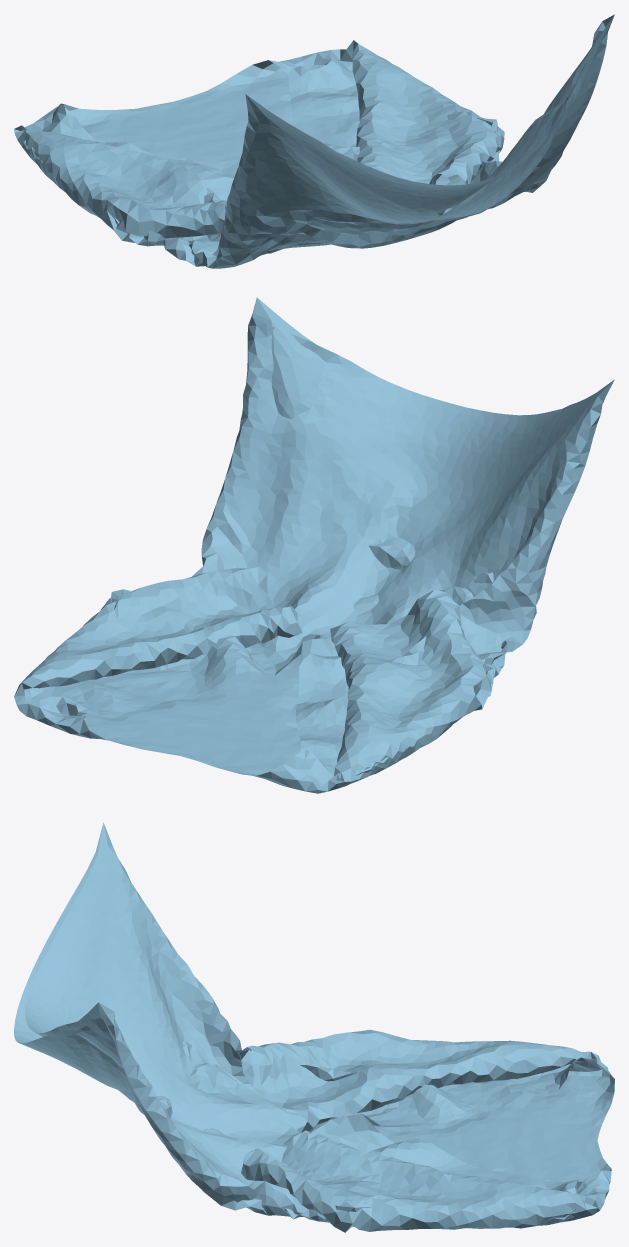
The model's file is frame_05.glb.
3 renders of one model, top to bottom at view 1: azimuth 30°, elevation 25°; view 2: azimuth 150°, elevation 25°; view 3: azimuth 270°, elevation 25°, orthographic. The views are drawn at different scales.
Visible parts, largest first — view 1: frame_05.obj; view 2: frame_05.obj; view 3: frame_05.obj.
Part boxes in pixels (x1=…): frame_05.obj: x1=14, y1=14, x2=614, y2=268; frame_05.obj: x1=14, y1=297, x2=614, y2=793; frame_05.obj: x1=14, y1=822, x2=614, y2=1232.
Size of the model in its own units: 1.2 by 0.7273 by 1.66.
